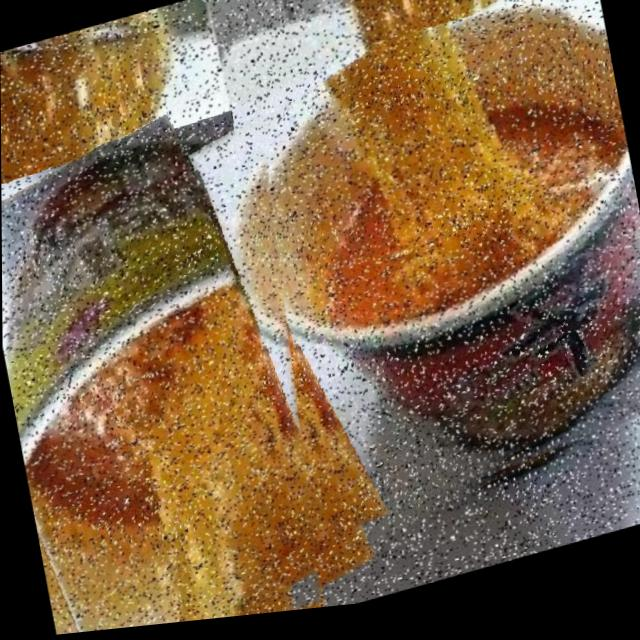Miscellaneous: (201, 0, 640, 563), (0, 97, 352, 640)
